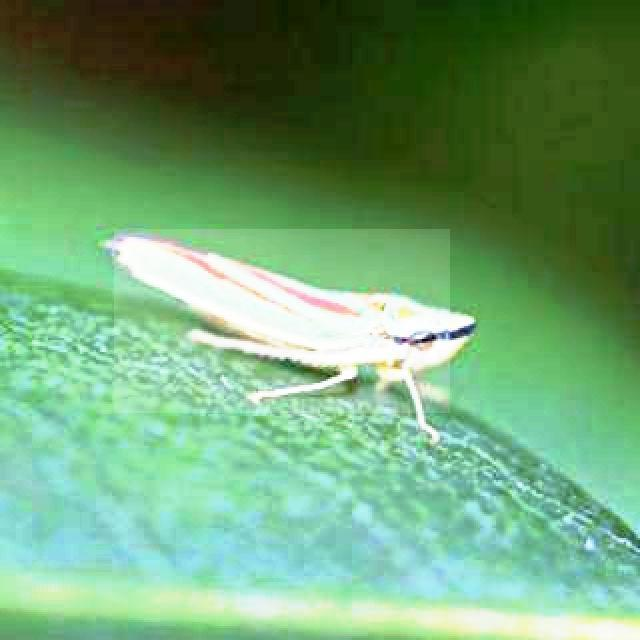green-leafhopper: (114, 230, 450, 414)
